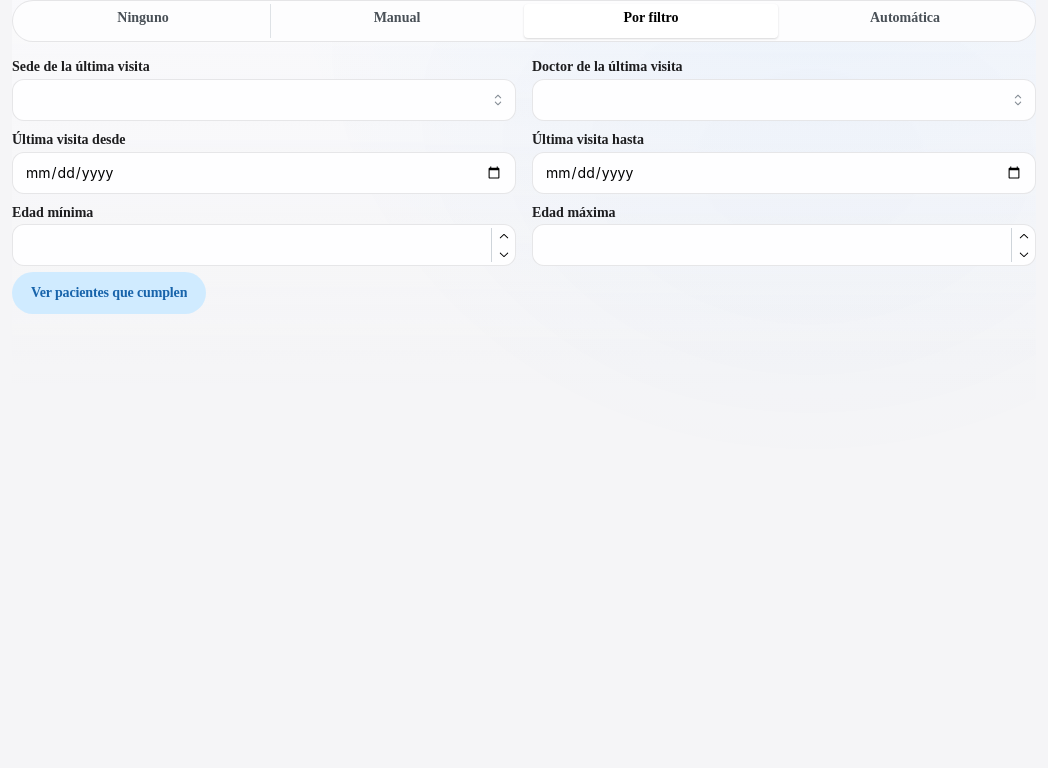
Test: RecallPatientPicker › busca por filtro, excluye a los ya inscritos y añade el resultado
Type "18" into the field labelled "Edad mínima" at (264, 245), box [12,224,516,266]
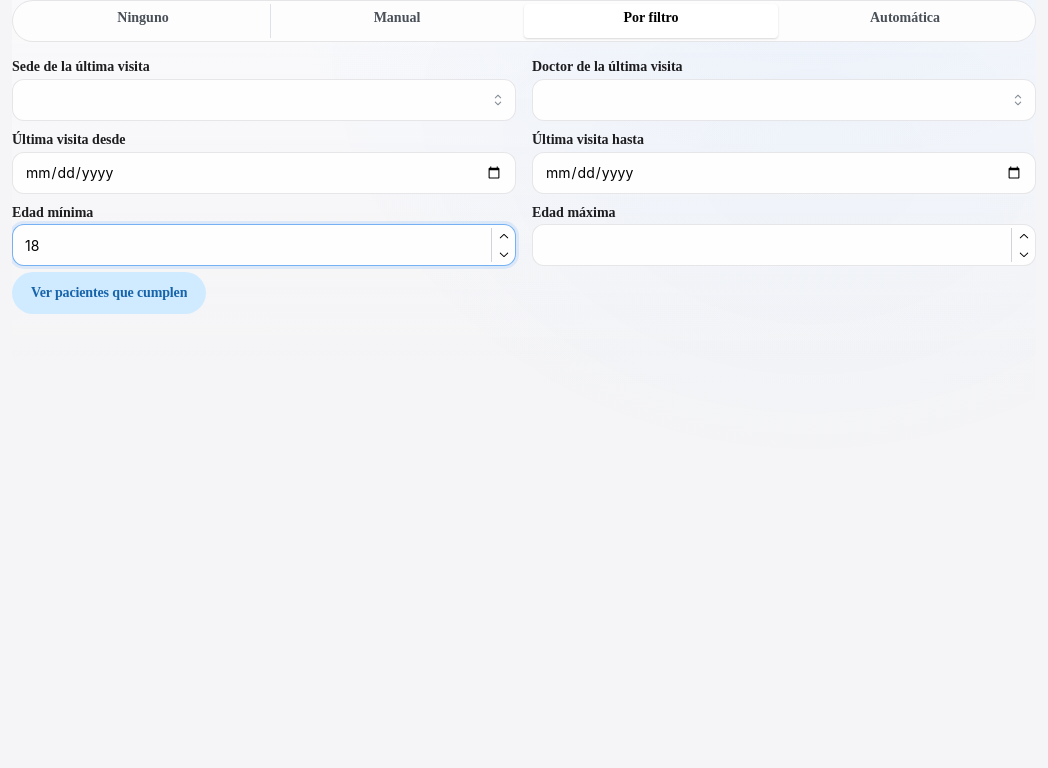
Click the button "Ver pacientes que cumplen" at (109, 293), box [12,272,206,314]
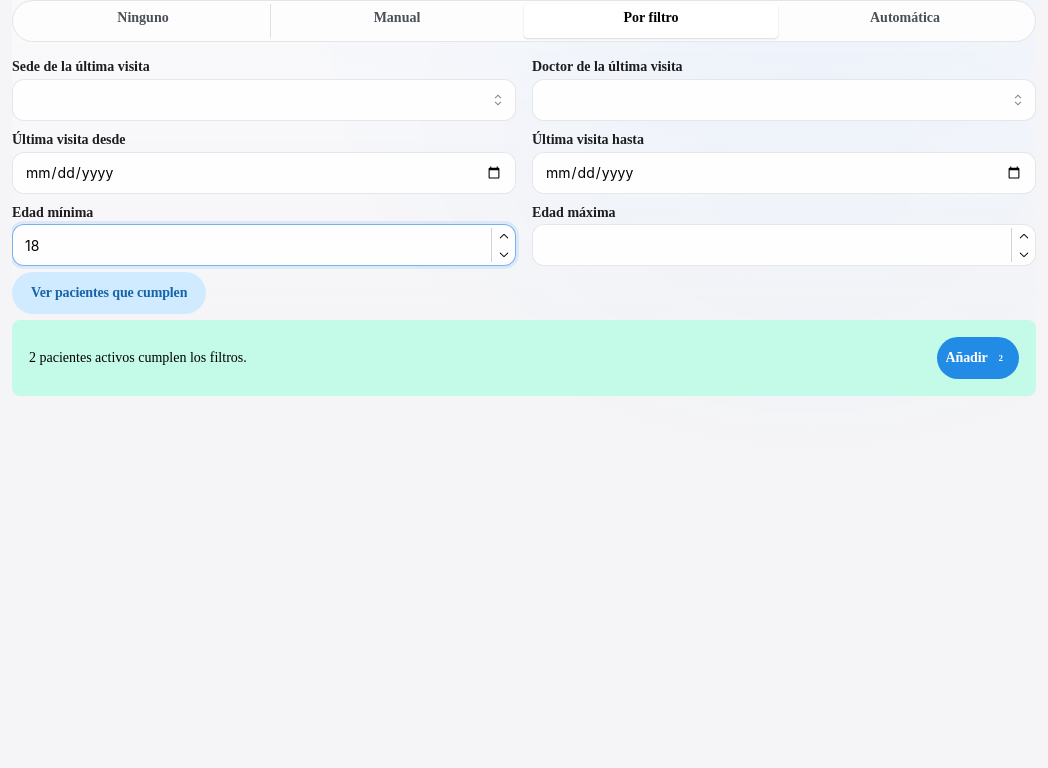
Now the text "2 pacientes activos cumplen los filtros." is shown, box [29,348,247,368]
Click the button "Añadir 2" at (978, 358), box [937,337,1019,379]
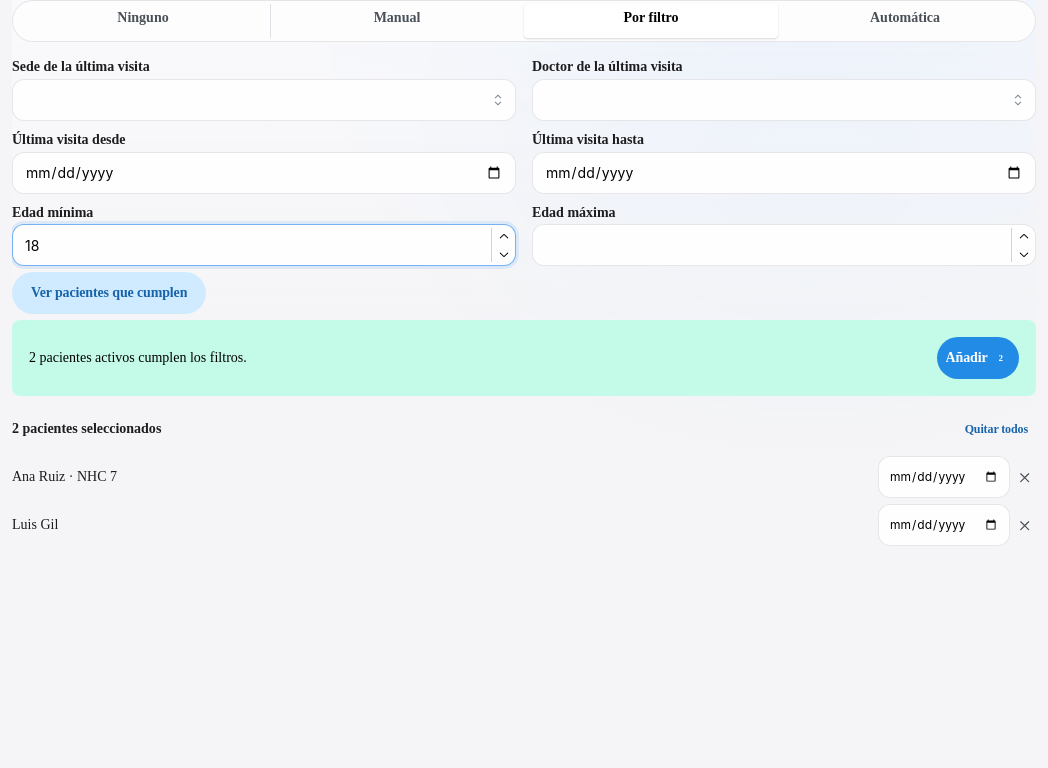
Now the text "2 pacientes seleccionados" is shown, box [12,419,161,440]
Type "2026-12-01" into the date field named "Fecha propia para Ana Ruiz" at (944, 477), box [878,456,1010,498]
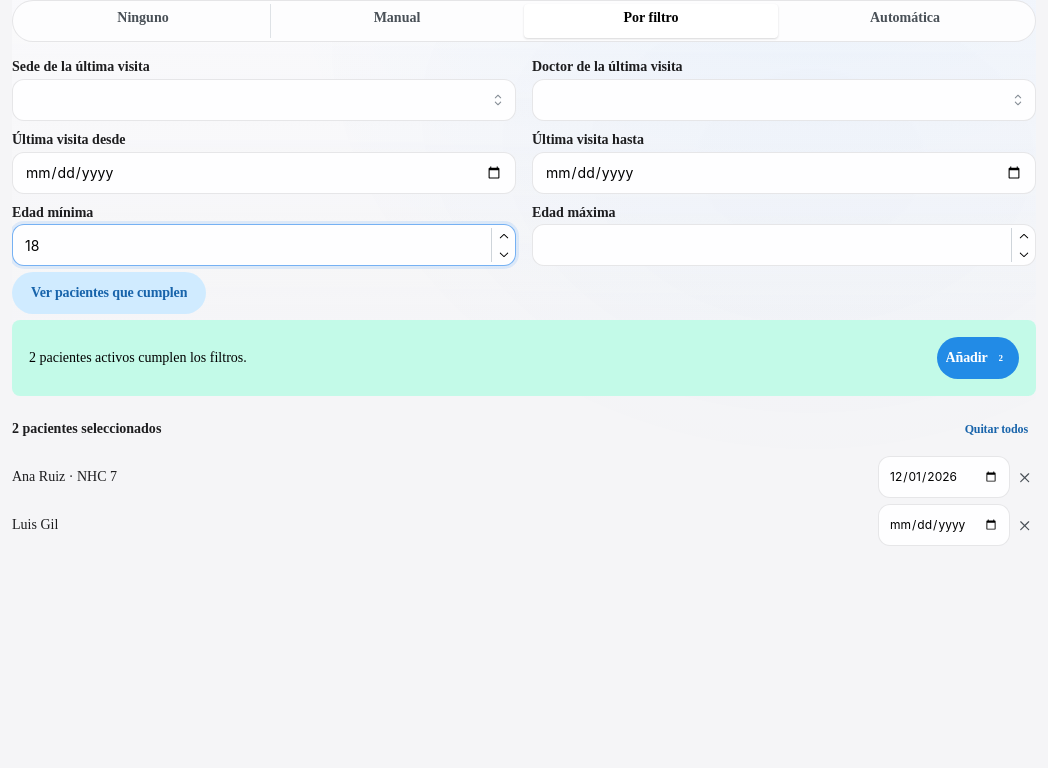
Click the button named "Quitar a Luis Gil" at (1025, 525), box [1014,514,1036,536]
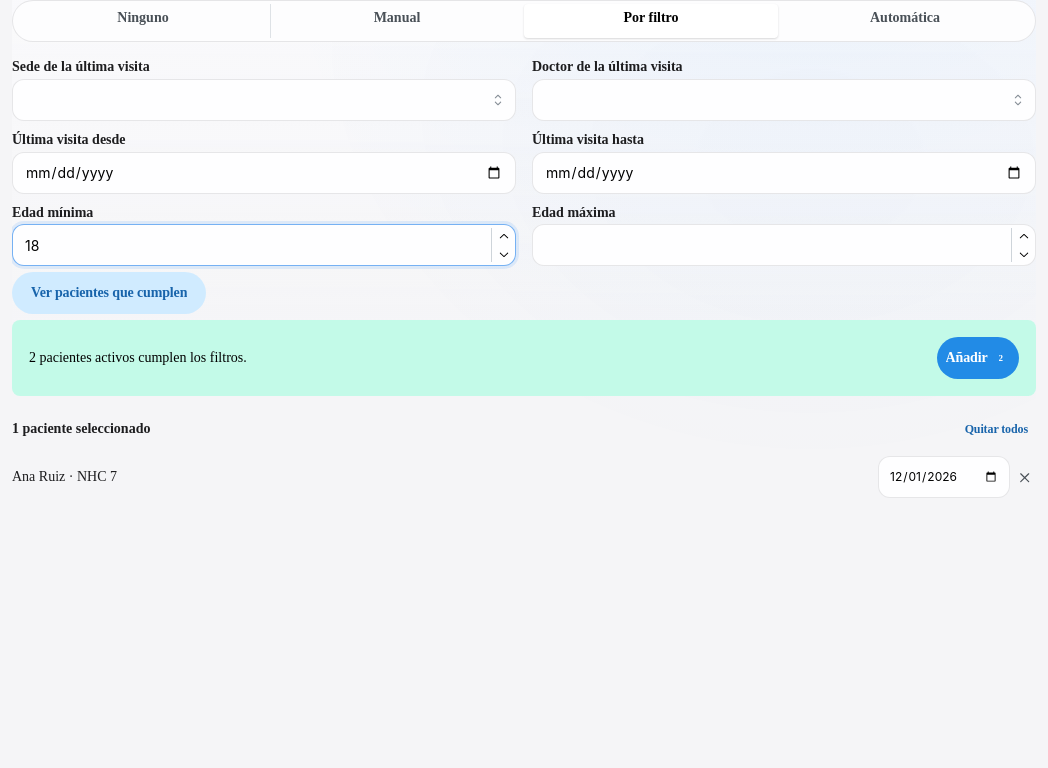
Now the text "1 paciente seleccionado" is shown, box [12,419,150,440]
Click the button "Quitar todos" at (996, 429), box [957,408,1036,450]
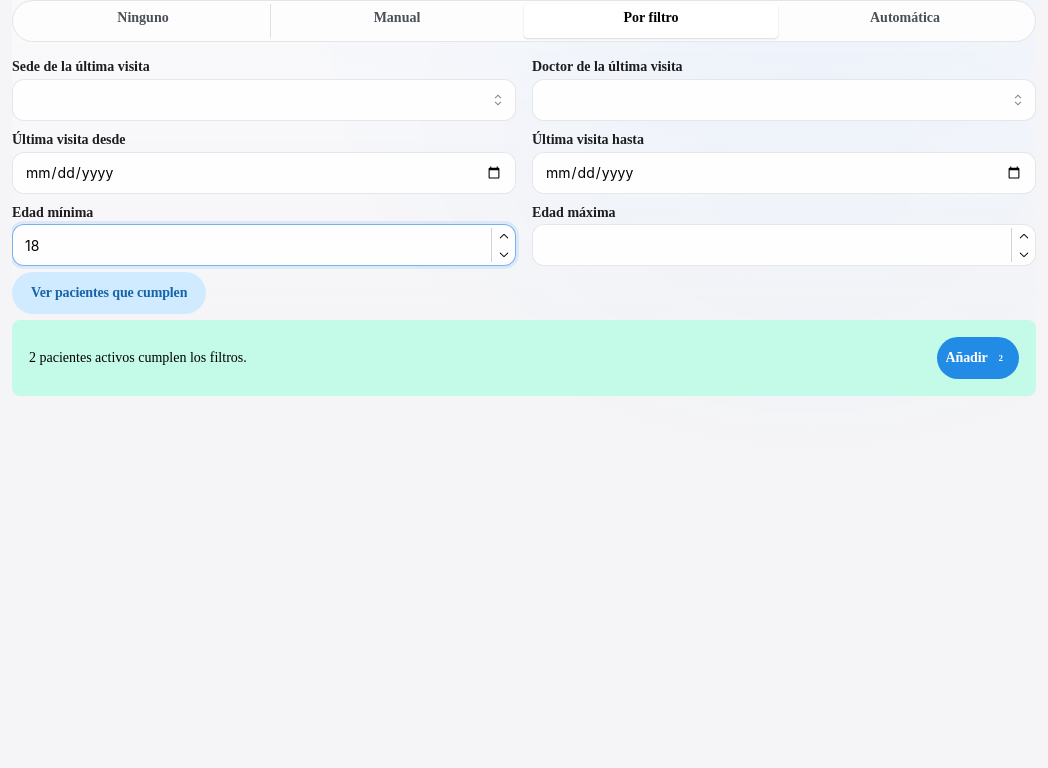
Now the text "seleccionado" is gone
